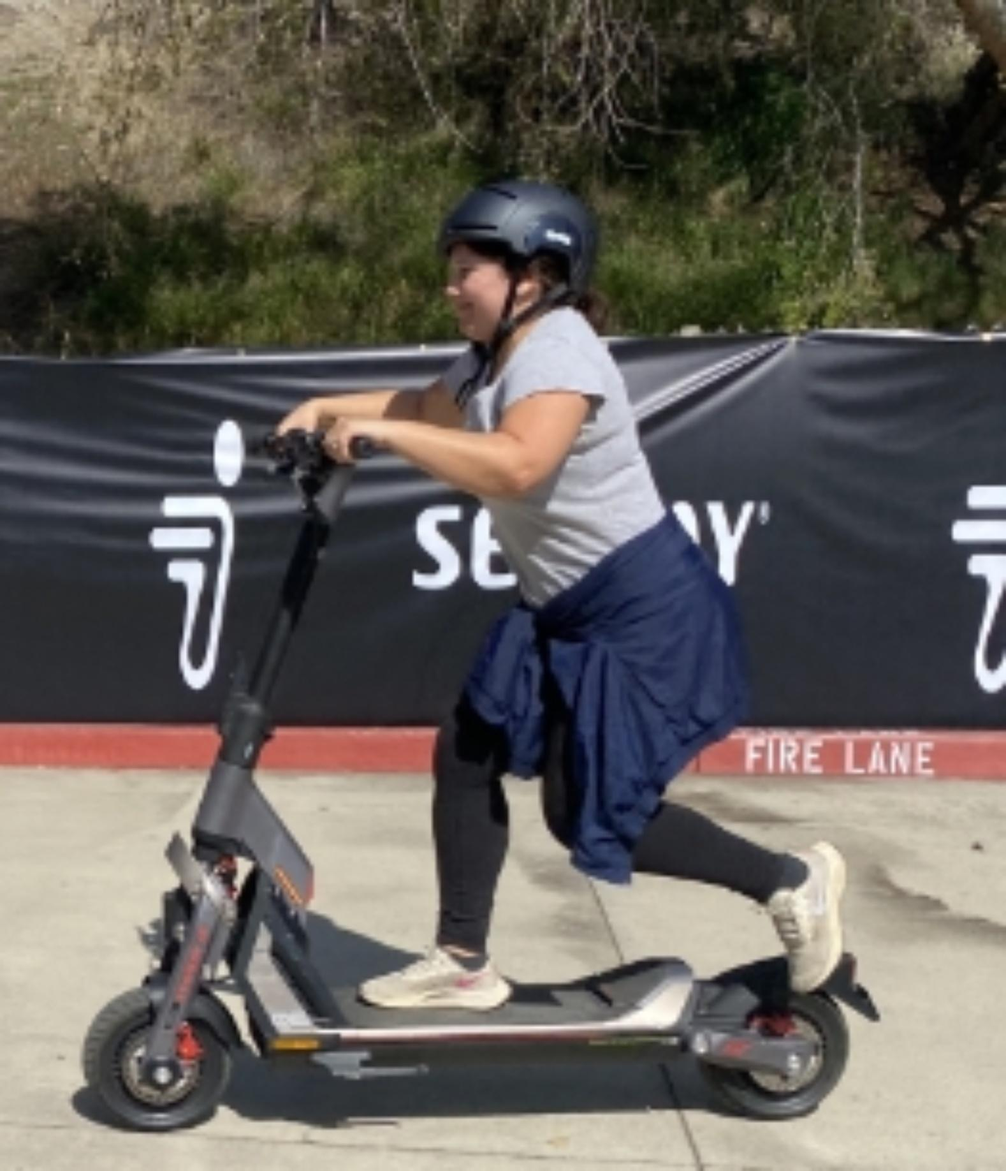helmet: (435, 177, 597, 342)
human: (269, 153, 841, 1007)
kickboard: (70, 953, 895, 1171)
